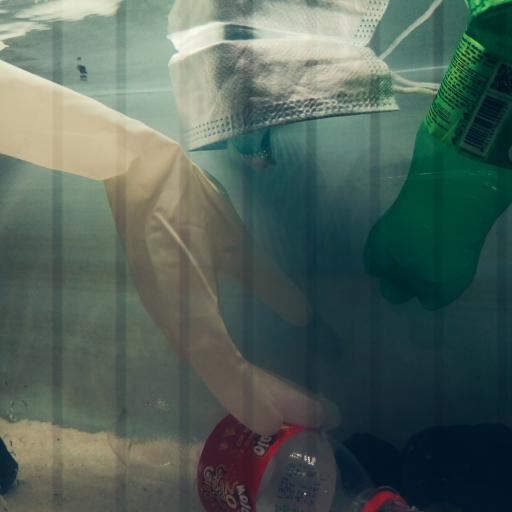glove: (0, 60, 341, 430)
mask: (165, 30, 441, 171)
plastic_bottle: (358, 2, 510, 310), (108, 404, 410, 512)
